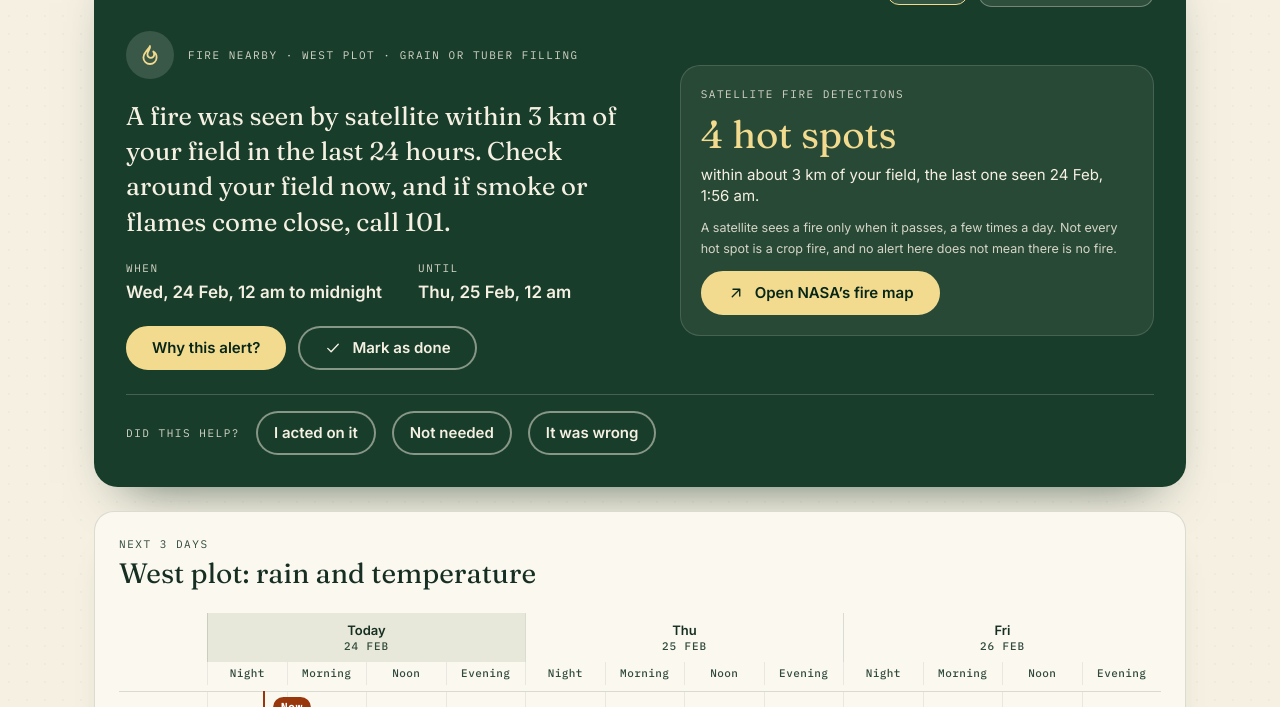
Test: fire near the field › "Why this alert?" says what a satellite cannot see and that only the area, not the field's place, goes to NASA
(page scrolled)
Click the button "Why this alert?": (206, 348) [126, 326, 286, 370]
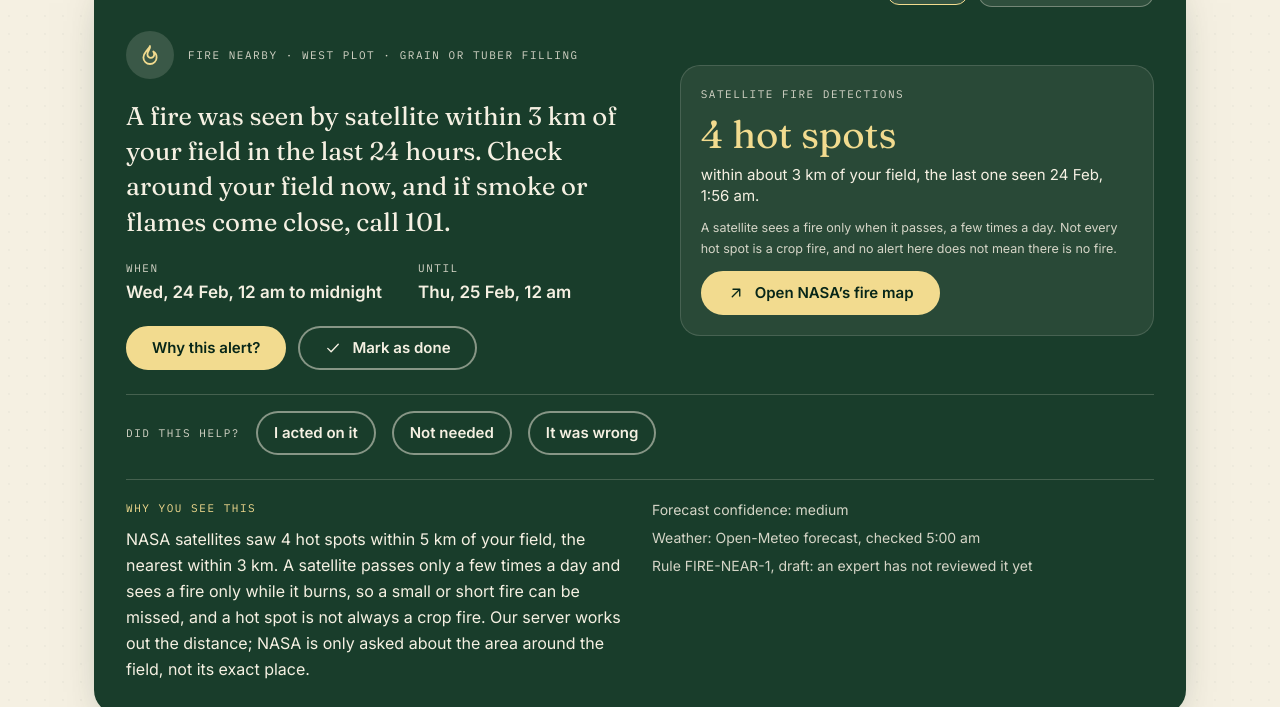
Expected: the text "not its exact place" is shown, [126, 529, 621, 679]
